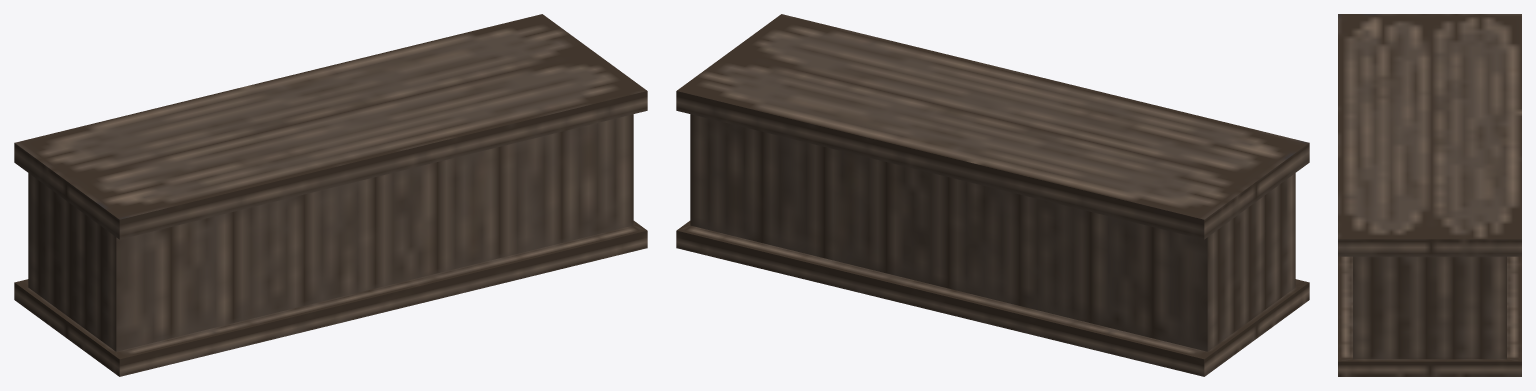
File: wooden_bar.fbx
The picture shows the model from 3 angles, left to right: view 1: azimuth 30°, elevation 25°; view 2: azimuth 150°, elevation 25°; view 3: azimuth 270°, elevation 25°; orthographic projection. The views are drawn at different scales.
Parts seen in each view (by area): view 1: pCube7; view 2: pCube7; view 3: pCube7.
Part boxes in pixels (bbox=[...]): pCube7: bbox=[14, 14, 647, 376]; pCube7: bbox=[676, 14, 1309, 376]; pCube7: bbox=[1338, 14, 1521, 376].
Bounding box in the file's own units: 683 × 194 × 236.
